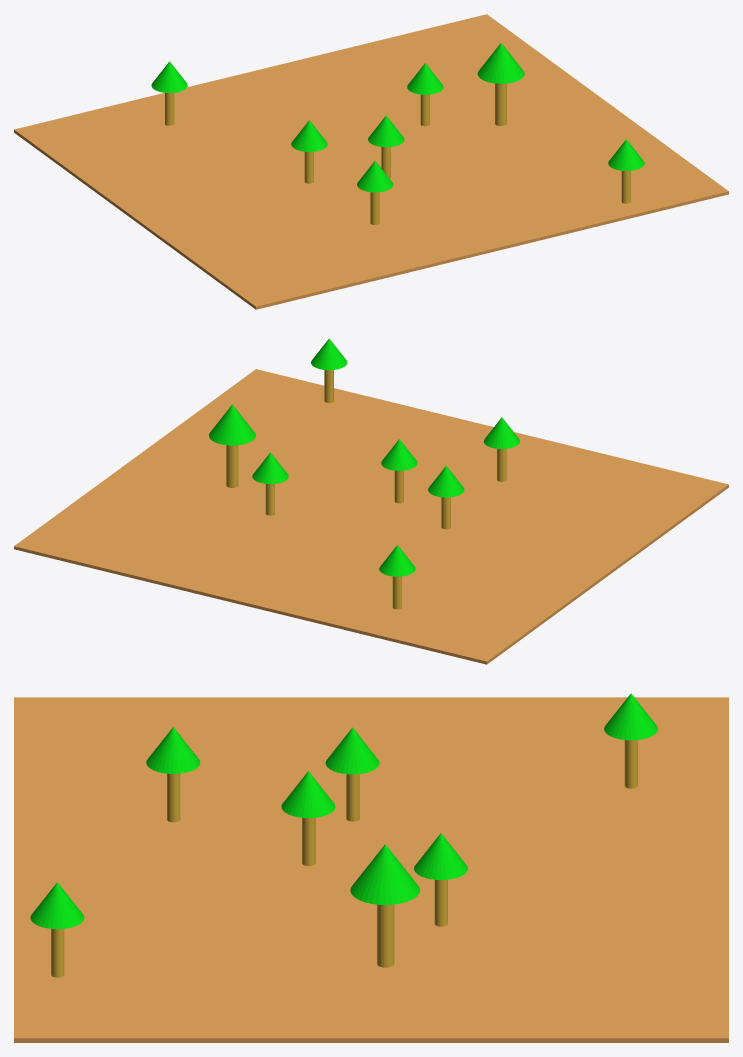
The model's file is scenario.glb.
3 views of the same model, one above another, from view 1: azimuth 30°, elevation 25°; view 2: azimuth 150°, elevation 25°; view 3: azimuth 270°, elevation 25° (orthographic). The views are drawn at different scales.
Visible parts, largest first — view 1: Cone.006; view 2: Cone.006; view 3: Cone.006.
Boxes of the visible parts, x1,y1,x2,y2 form: Cone.006: (14, 14, 728, 309); Cone.006: (14, 338, 728, 664); Cone.006: (14, 693, 728, 1042).
Bounding box in the file's own units: 250 × 48.85 × 222.
